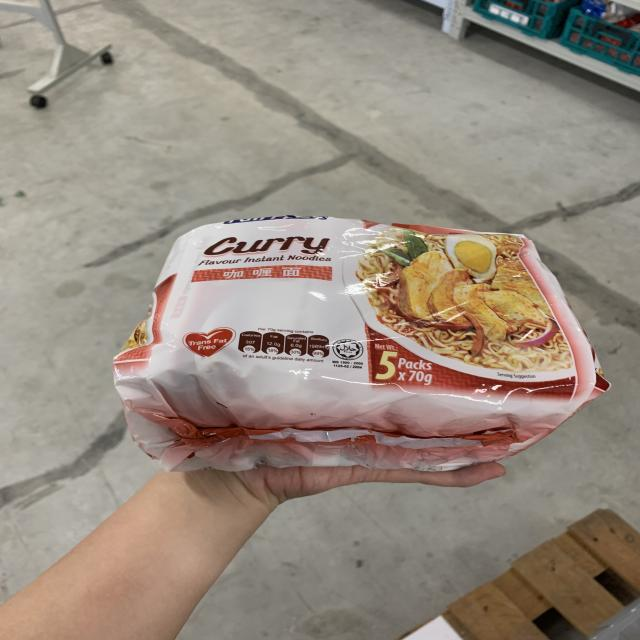object_name: (142, 226, 583, 462)
